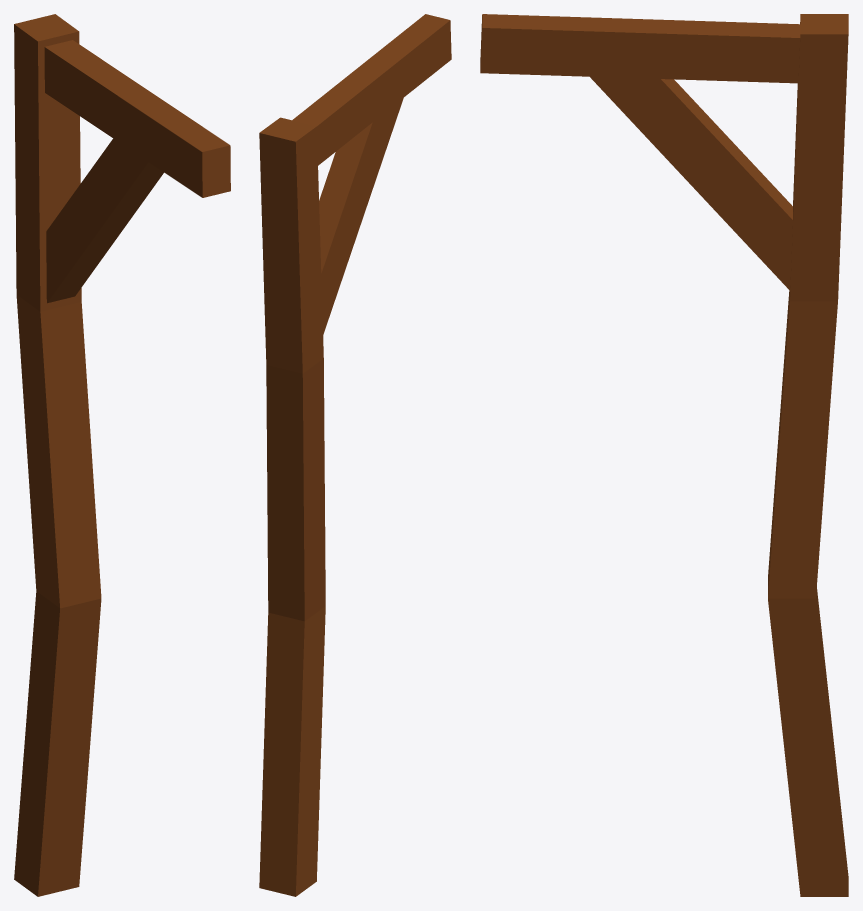
The model's file is WoodenPost.fbx.
3 views of the same model, side by side, from view 1: azimuth 30°, elevation 25°; view 2: azimuth 150°, elevation 25°; view 3: azimuth 270°, elevation 25° (orthographic). The views are drawn at different scales.
Parts seen in each view (by area): view 1: WoodenPost; view 2: WoodenPost; view 3: WoodenPost.
Part boxes in pixels (x1,y1,x2,y2): WoodenPost: (14,14,230,896); WoodenPost: (259,14,451,896); WoodenPost: (480,14,848,896).
Bounding box in the file's own units: 14.61 × 239 × 92.19.
